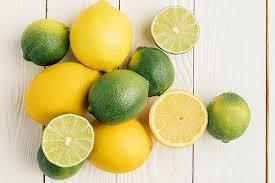lemon: (22, 60, 102, 124), (69, 0, 132, 73), (87, 117, 154, 174), (148, 89, 208, 148)
